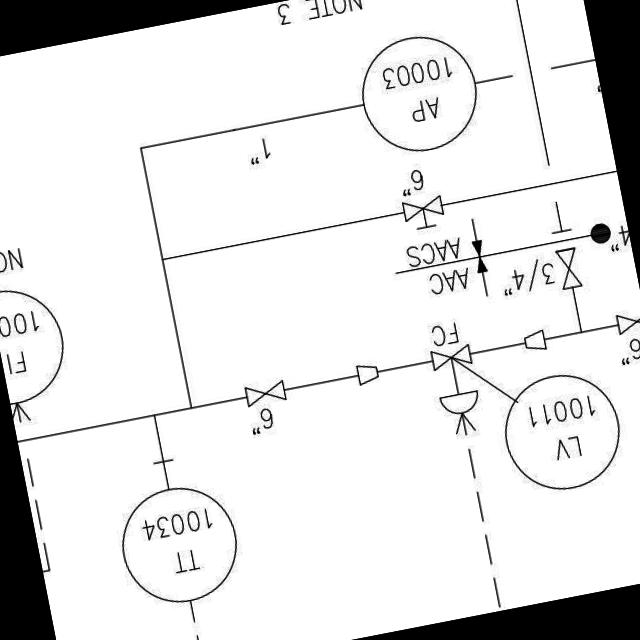FC: (427, 340, 488, 424)
GV: (553, 242, 586, 294), (240, 378, 290, 409)
HV: (398, 192, 451, 237)
SP: (348, 358, 385, 389), (519, 328, 551, 357)
